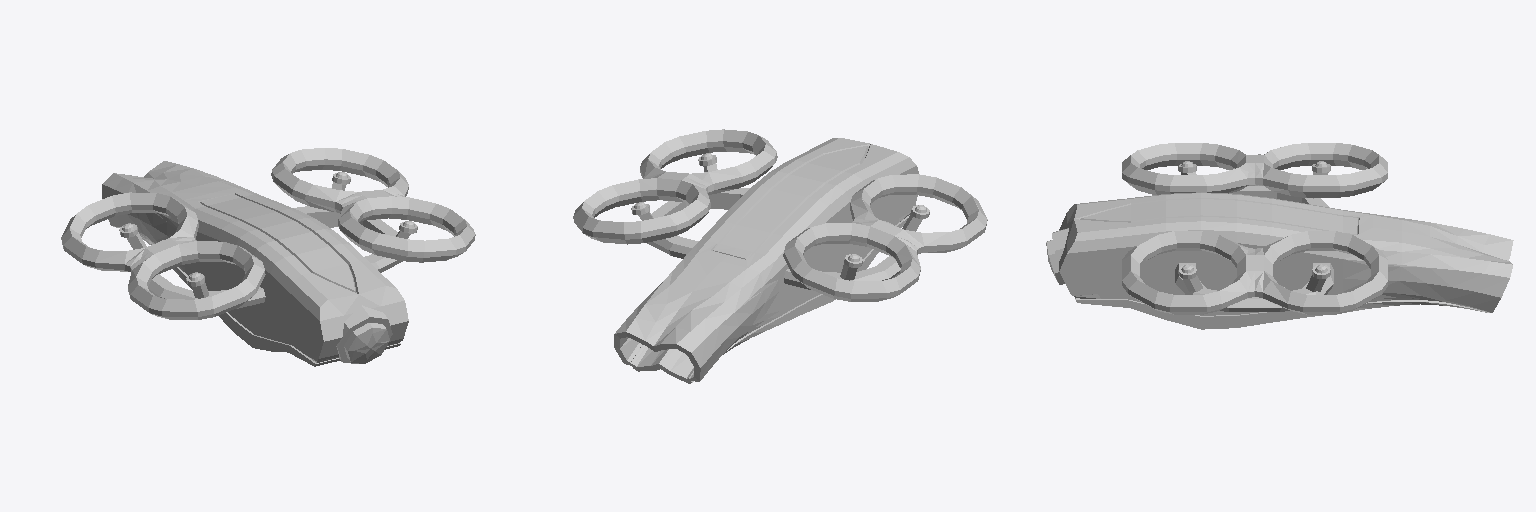
Rendered from Princess.obj.
The picture shows the model from 3 angles: view 1: azimuth 30°, elevation 25°; view 2: azimuth 150°, elevation 25°; view 3: azimuth 270°, elevation 25°; orthographic projection.
Parts seen in each view (by area): view 1: Core, R_Wing, R_Wing.001, Lens, BracesRing; view 2: Core, R_Wing, R_Wing.001, BracesRing; view 3: Core, R_Wing.001, R_Wing, BracesRing, Lens.
Part boxes in pixels (bbox=[...]): Core: bbox=[102, 161, 408, 366]; R_Wing: bbox=[61, 192, 265, 319]; R_Wing.001: bbox=[271, 148, 475, 262]; Lens: bbox=[336, 305, 392, 363]; BracesRing: bbox=[148, 206, 402, 308]; Core: bbox=[614, 138, 918, 383]; R_Wing: bbox=[783, 174, 987, 301]; R_Wing.001: bbox=[573, 129, 777, 244]; BracesRing: bbox=[647, 188, 900, 289]; Core: bbox=[1059, 192, 1513, 329]; R_Wing.001: bbox=[1122, 231, 1387, 314]; R_Wing: bbox=[1122, 143, 1387, 197]; BracesRing: bbox=[1175, 186, 1333, 311]; Lens: bbox=[1046, 228, 1068, 284].
Bounding box in the file's own units: 3.43 × 1.07 × 4.27.